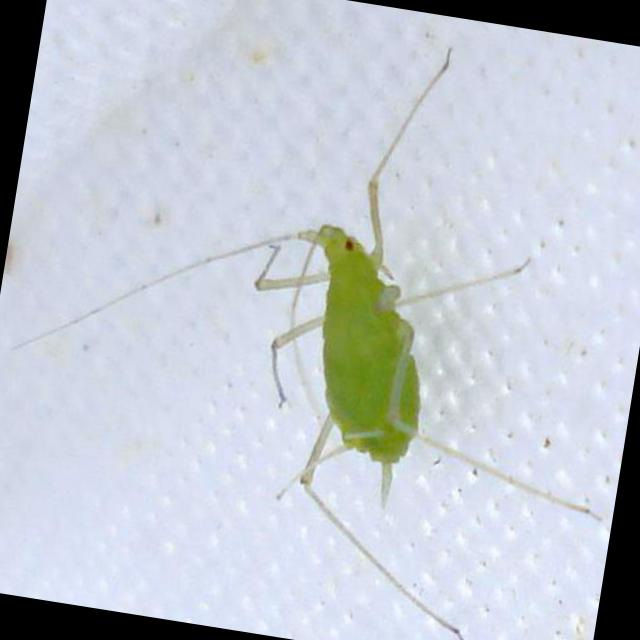Aphids: (62, 54, 637, 640)
